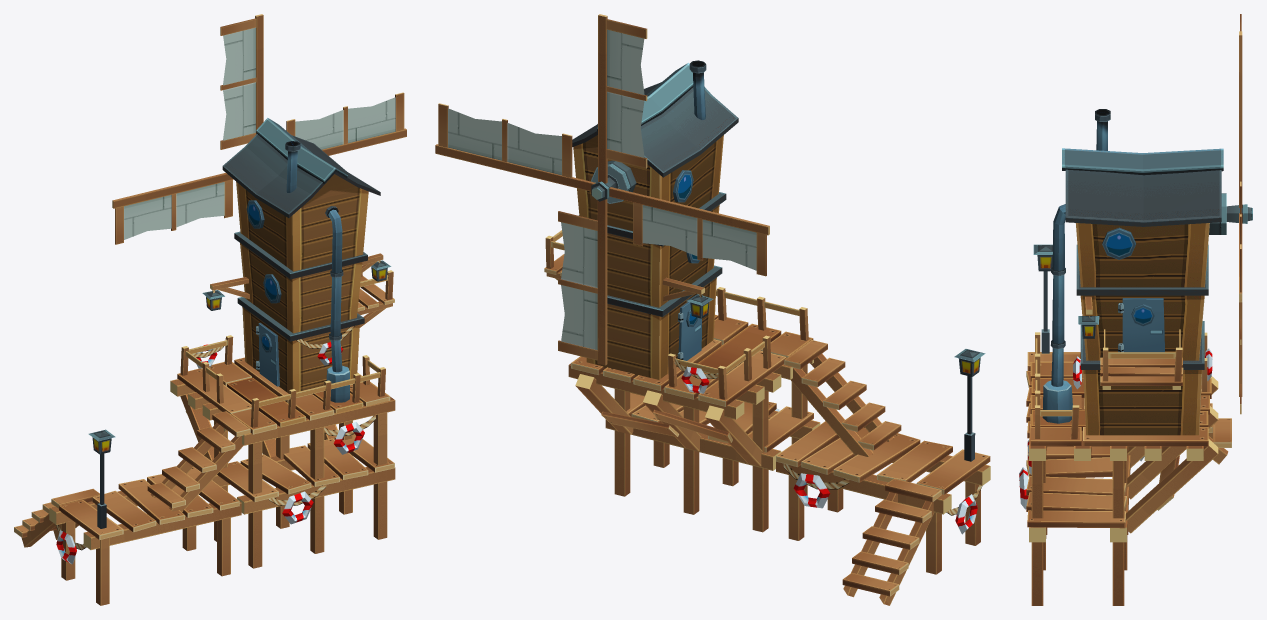
Rendered from windmill_house.fbx.
3 views of the same model, side by side, from view 1: azimuth 30°, elevation 25°; view 2: azimuth 150°, elevation 25°; view 3: azimuth 270°, elevation 25° (orthographic). The views are drawn at different scales.
Visible parts, largest first — view 1: windmill_house, windmill_rotor; view 2: windmill_house, windmill_rotor; view 3: windmill_house, windmill_rotor.
Part boxes in pixels (bbox=[...]): windmill_house: bbox=[14, 118, 395, 605]; windmill_rotor: bbox=[112, 14, 406, 244]; windmill_house: bbox=[544, 60, 990, 605]; windmill_rotor: bbox=[435, 14, 769, 365]; windmill_house: bbox=[1019, 109, 1231, 605]; windmill_rotor: bbox=[1226, 14, 1252, 414].
Bounding box in the file's own units: 37.12 × 40.67 × 15.66.
